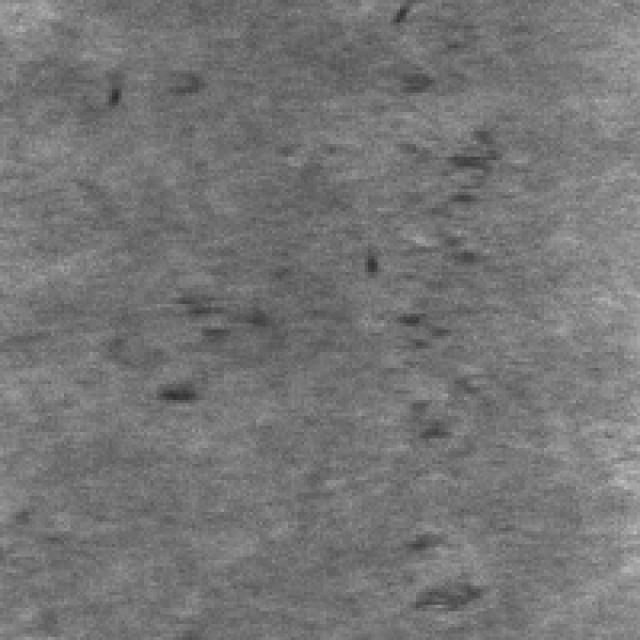rolled-in_scale: (355, 108, 499, 618), (131, 240, 266, 432)
